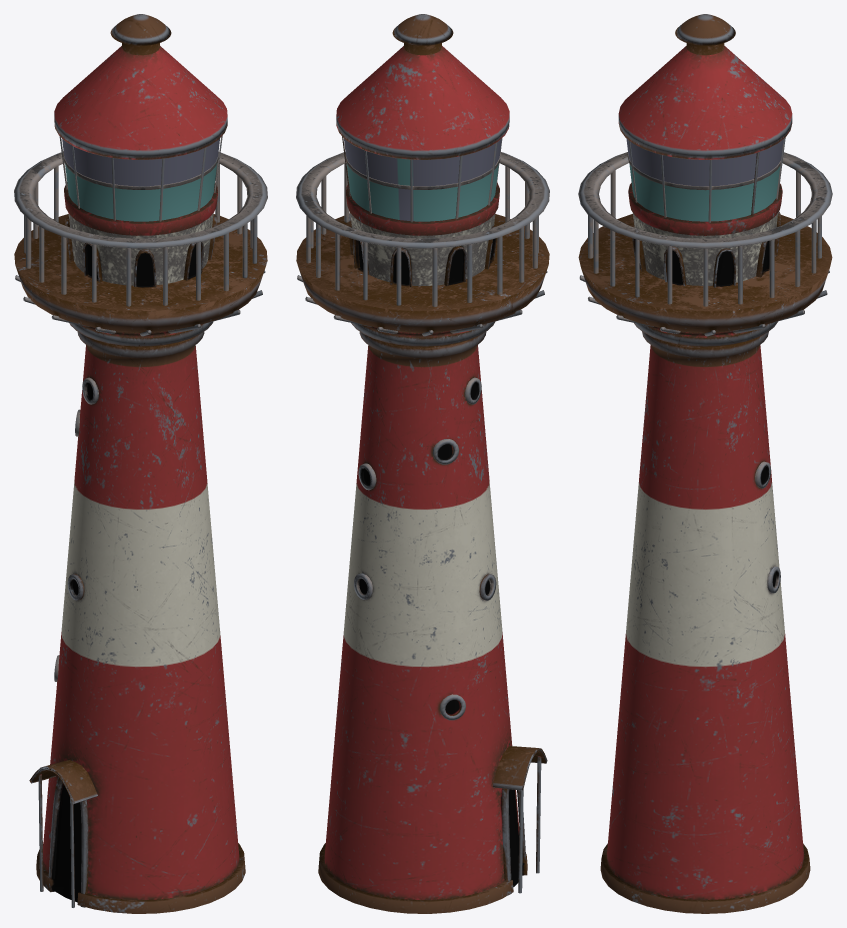
Rendered from lighthouse.glb.
The picture shows the model from 3 angles, left to right: view 1: azimuth 30°, elevation 25°; view 2: azimuth 150°, elevation 25°; view 3: azimuth 270°, elevation 25°; orthographic projection.
Visible parts, largest first — view 1: Object_2; view 2: Object_2; view 3: Object_2.
Part boxes in pixels (box(x1,y1,x2,y2)): Object_2: box(14, 14, 267, 913); Object_2: box(296, 14, 549, 913); Object_2: box(578, 14, 832, 913).
Size of the model in its own units: 0.8593 by 3.19 by 0.8592.
Materials: 1 (1 with a texture image).
